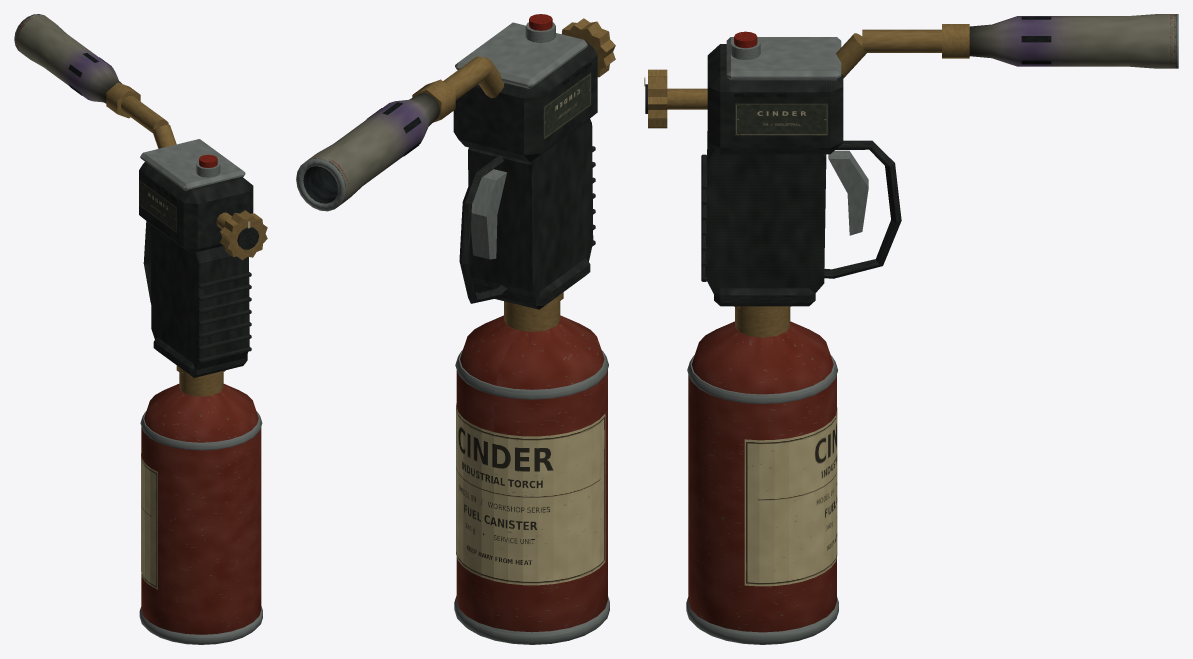
Rendered from cinder_blowtorch.glb.
3 renders of one model, left to right at view 1: azimuth 30°, elevation 25°; view 2: azimuth 150°, elevation 25°; view 3: azimuth 270°, elevation 25°, orthographic. The views are drawn at different scales.
Visible parts, largest first — view 1: Blowtorch_Body; view 2: Blowtorch_Body, Trigger lever; view 3: Blowtorch_Body, Trigger lever.
Part boxes in pixels (<box>): Blowtorch_Body: <box>14,14,267,644</box>; Blowtorch_Body: <box>296,14,615,644</box>; Trigger lever: <box>471,169,506,259</box>; Blowtorch_Body: <box>644,14,1178,644</box>; Trigger lever: <box>828,150,868,235</box>.
Size of the model in its own units: 0.072 by 0.313 by 0.2517.
1 material, 1 textured.
